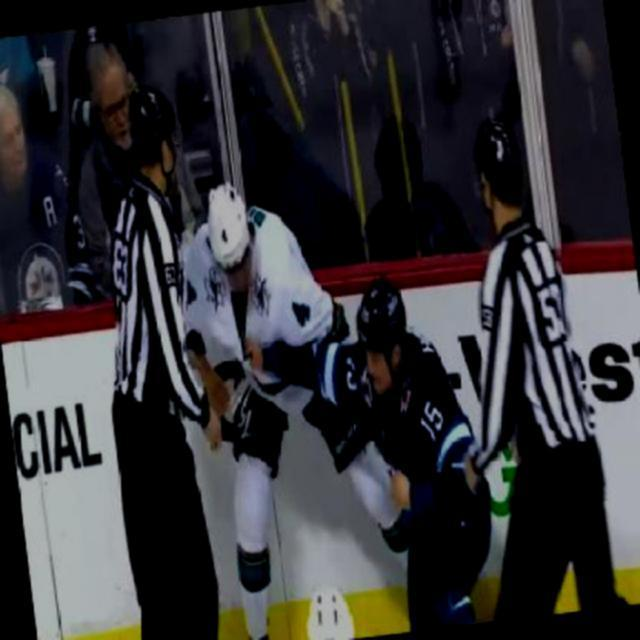fight: (171, 154, 504, 638)
